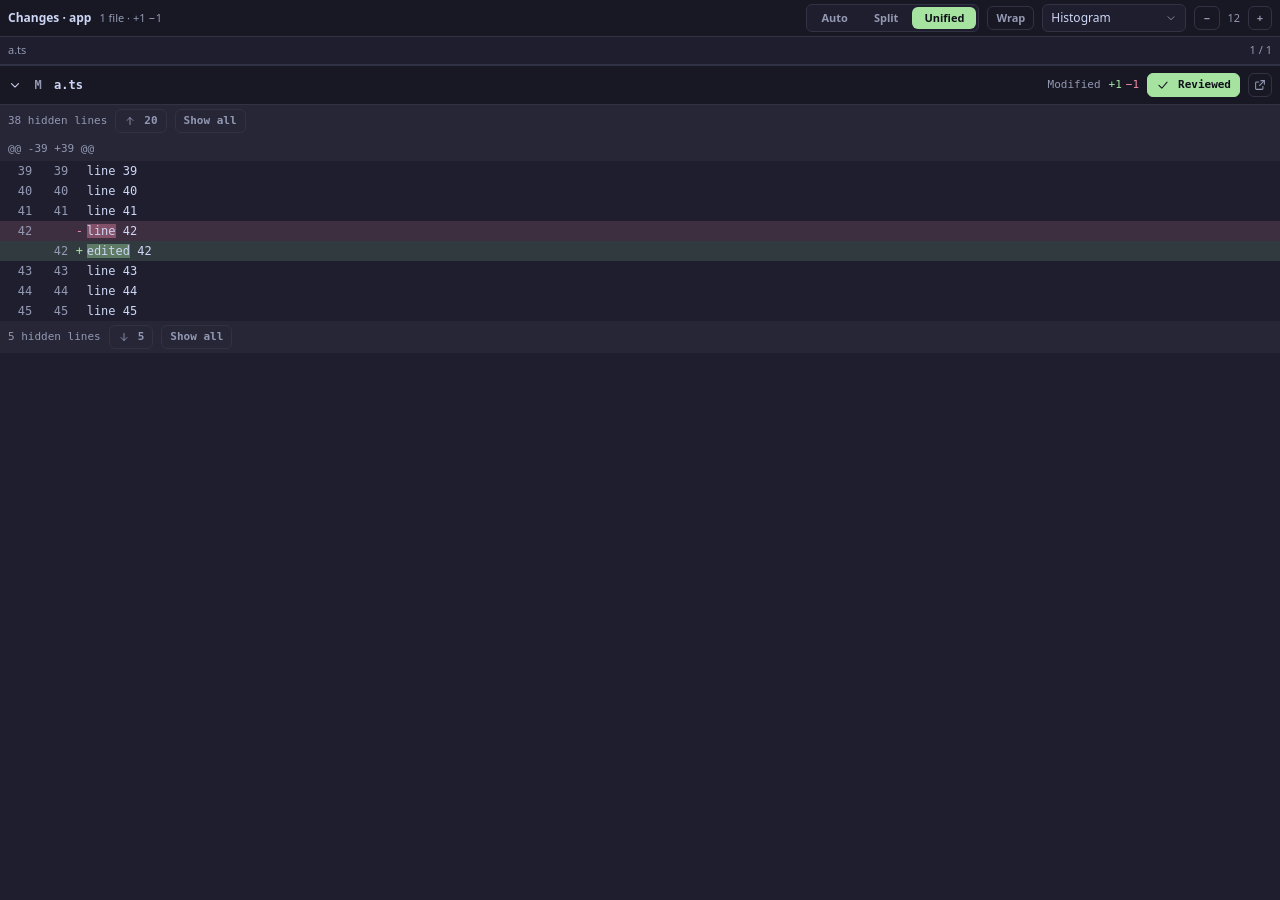
it: A comment attaches to a line or a range on one side › a one-line comment shows under line 42, and line 42 is marked as commented
Expected: the list with test id "review-list" is shown, [0,65,1279,353]
Press the mouse on the button with test id "review-no-new" next to "edited" at (61, 251), box [54,244,68,258]
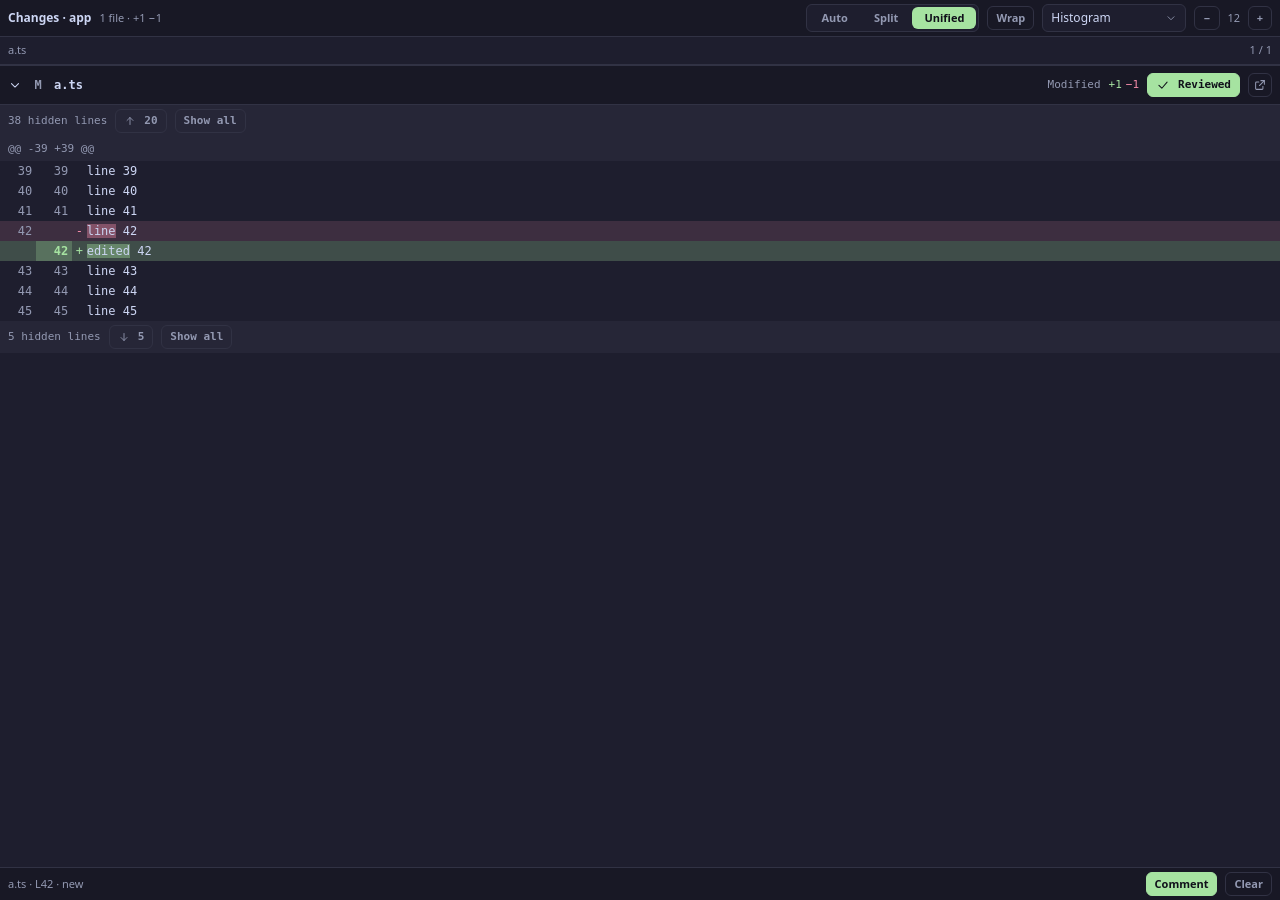
Now the text with test id "review-selection-text" reads "a.ts · L42 · new", box [8,876,84,891]
Click the button with test id "review-comment-start" at (1182, 884), box [1146,872,1218,896]
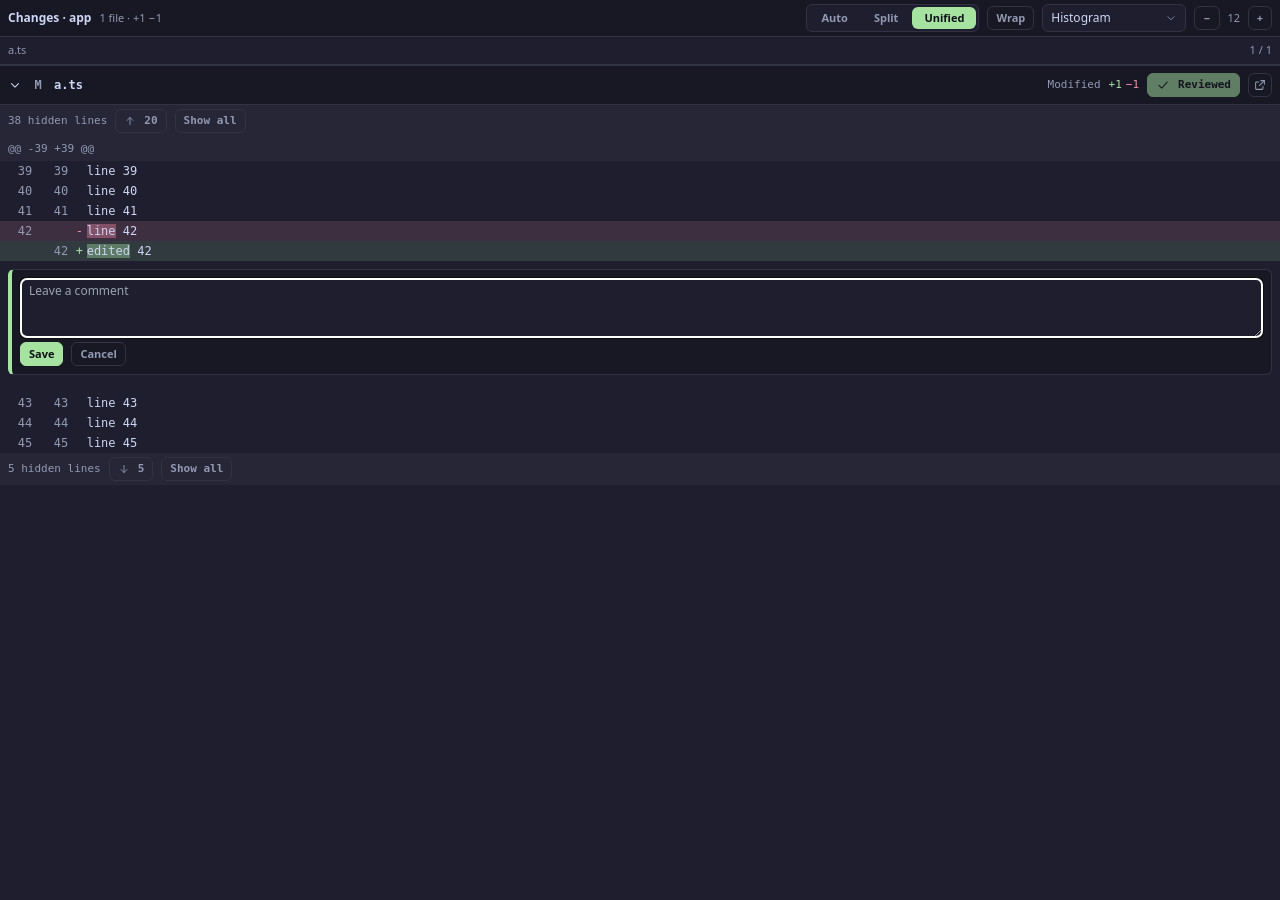
Type "rename this" into the text box with test id "review-comment-input" at (642, 308), box [20,278,1263,338]
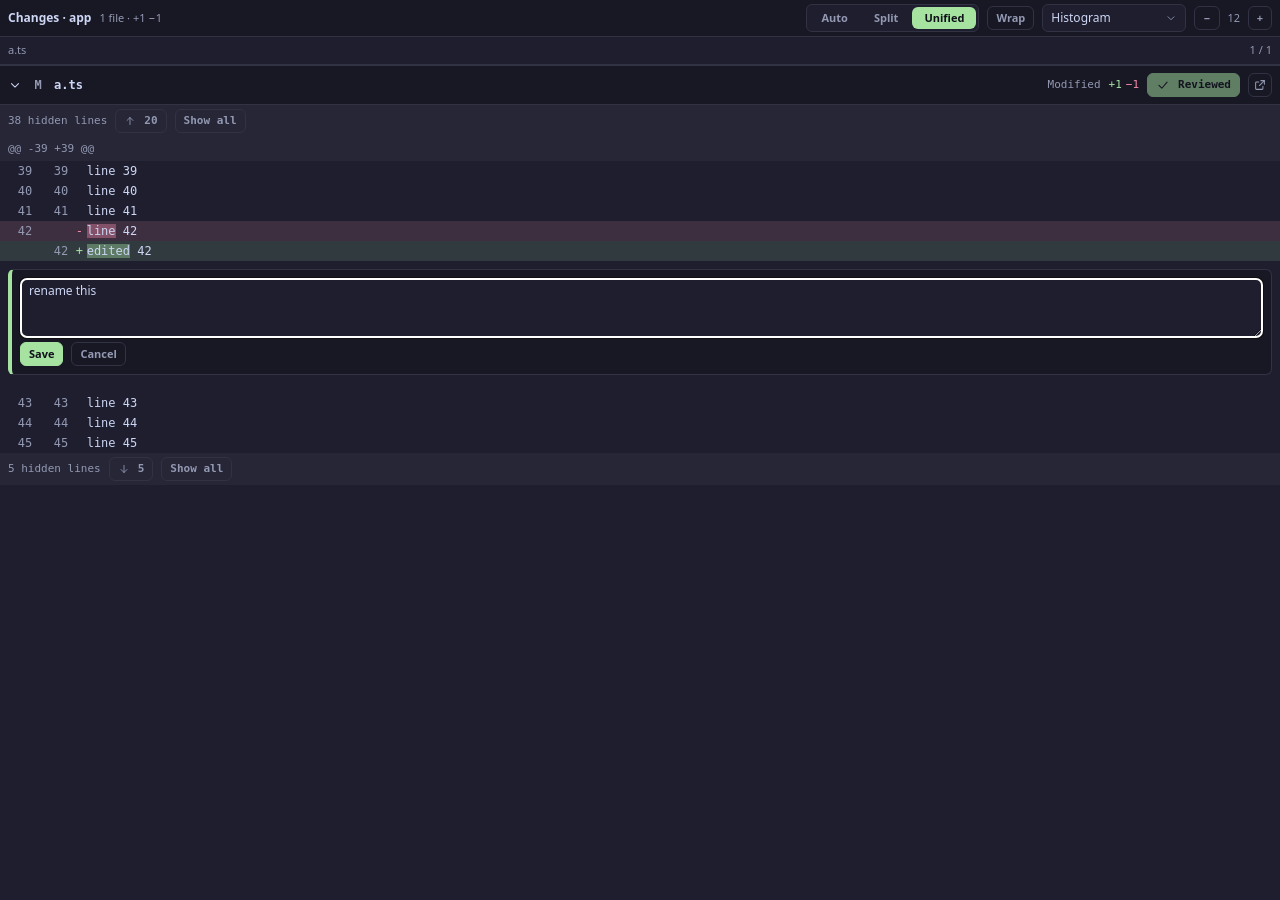
Click the button with test id "review-comment-save" at (42, 354), box [20,342,64,366]
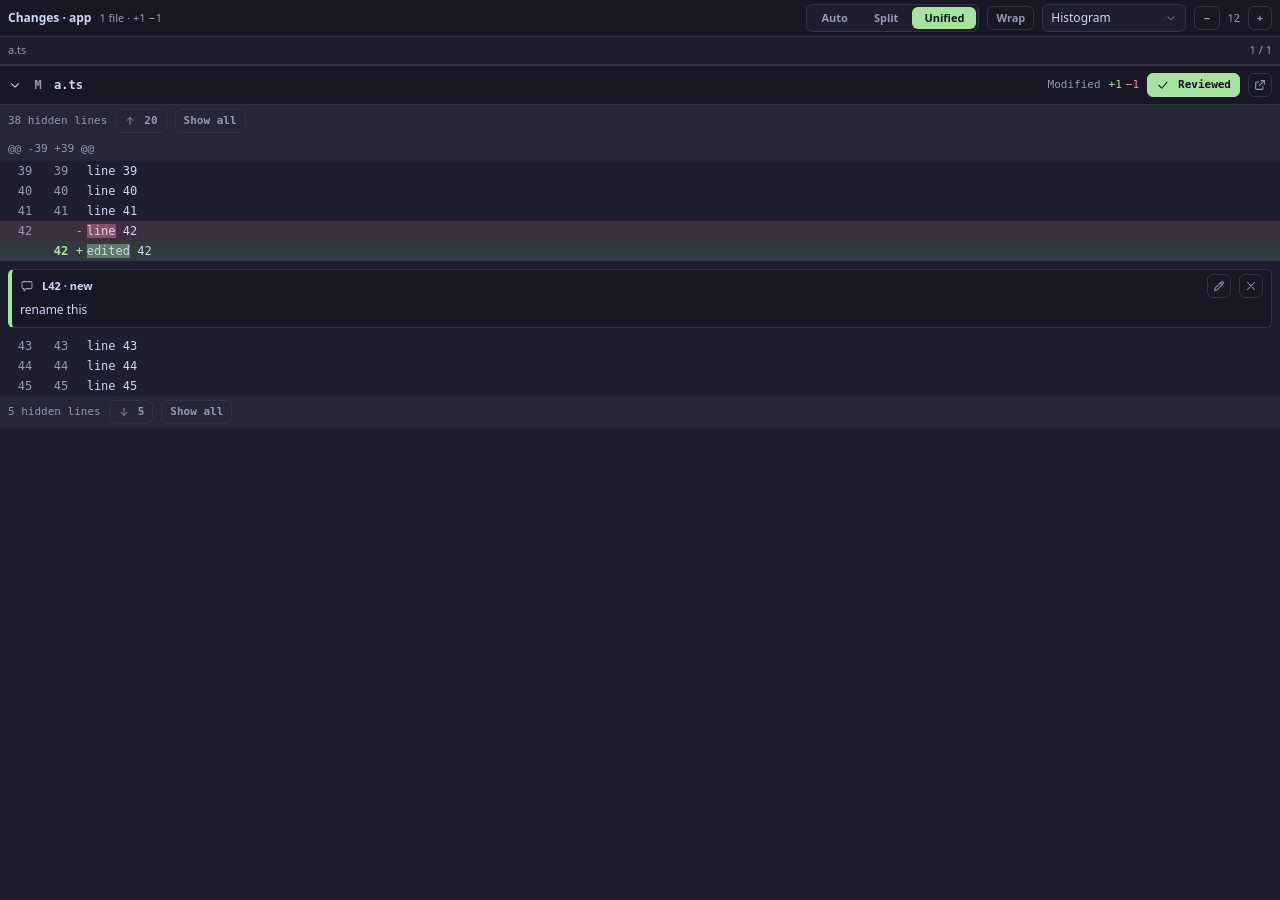
Now the element with test id "review-comment" shows "rename this", box [20,301,87,318]
Now the text with test id "review-comment-range" reads "L42 · new", box [42,278,93,294]
Now the element with test id "review-comment-editor" is gone
